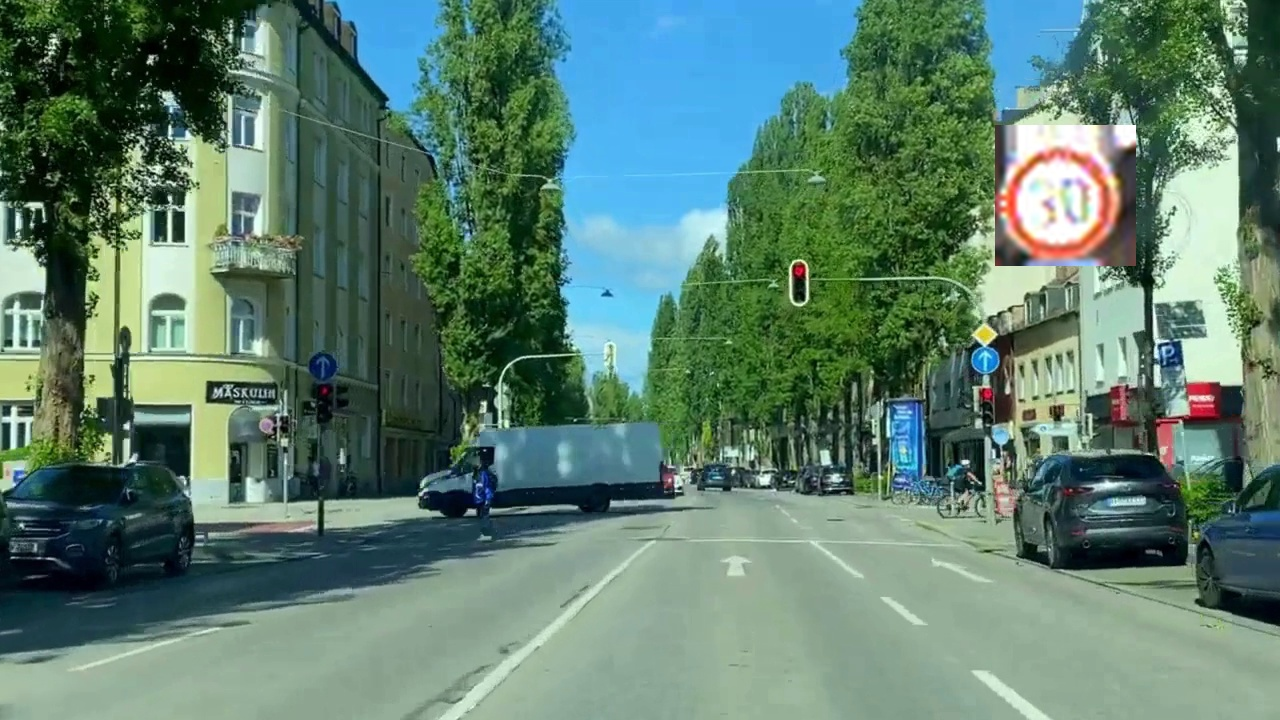Speed 30: (995, 125, 1136, 266)
